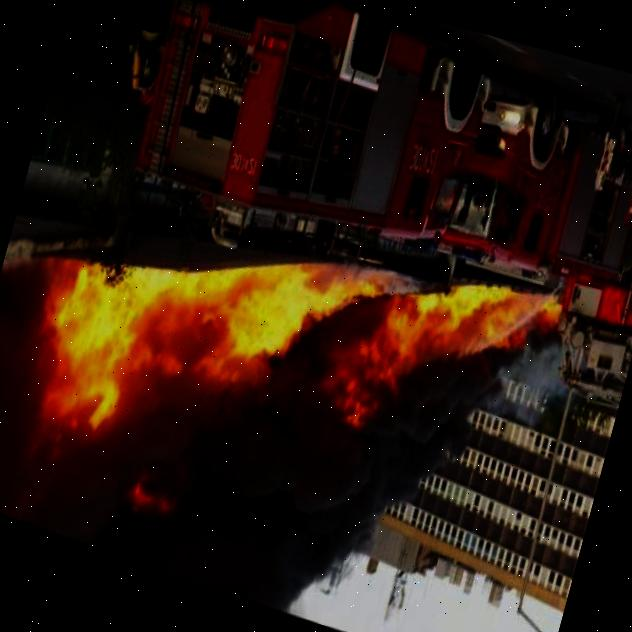fire: (14, 256, 152, 469), (120, 266, 231, 414), (203, 256, 307, 404), (312, 331, 406, 439), (375, 287, 446, 379), (299, 261, 378, 334), (434, 282, 499, 362), (484, 286, 541, 361), (121, 485, 176, 535), (535, 302, 563, 337)
smoke: (102, 396, 372, 554), (152, 497, 352, 632), (0, 434, 127, 560), (380, 356, 481, 492), (0, 269, 56, 446)
